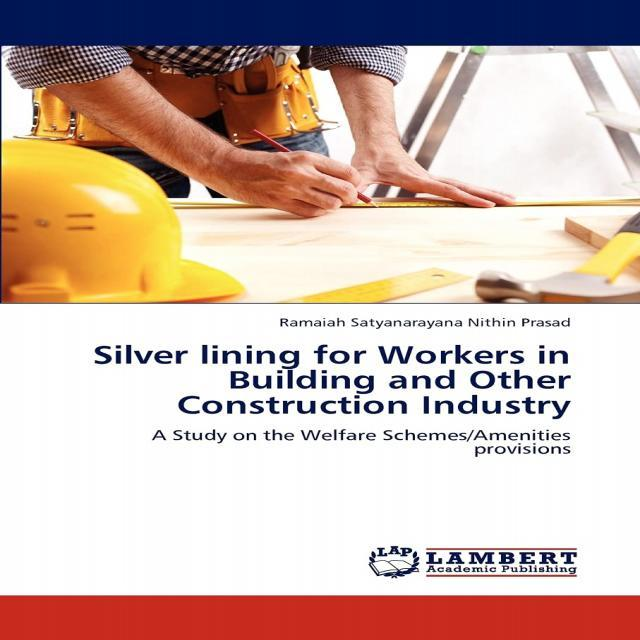safety_helmet: (0, 137, 239, 305)
